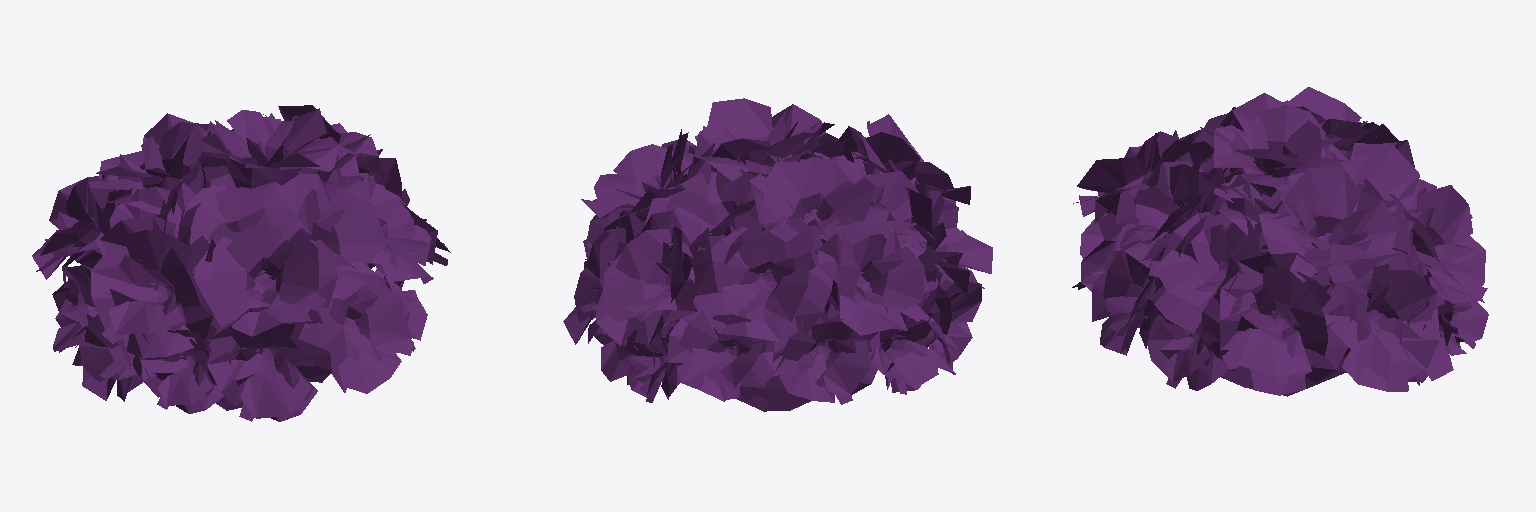
Rendered from Object_EleganceCoral3.obj.
3 renders of one model, left to right at view 1: azimuth 30°, elevation 25°; view 2: azimuth 150°, elevation 25°; view 3: azimuth 270°, elevation 25°, orthographic.
Parts seen in each view (by area): view 1: Elegance_Coral3; view 2: Elegance_Coral3; view 3: Elegance_Coral3.
Boxes of the visible parts, <box> form: Elegance_Coral3: <box>32,105,450,421</box>; Elegance_Coral3: <box>563,98,992,411</box>; Elegance_Coral3: <box>1072,87,1488,396</box>.
Bounding box in the file's own units: 1.08 × 0.7768 × 1.05.